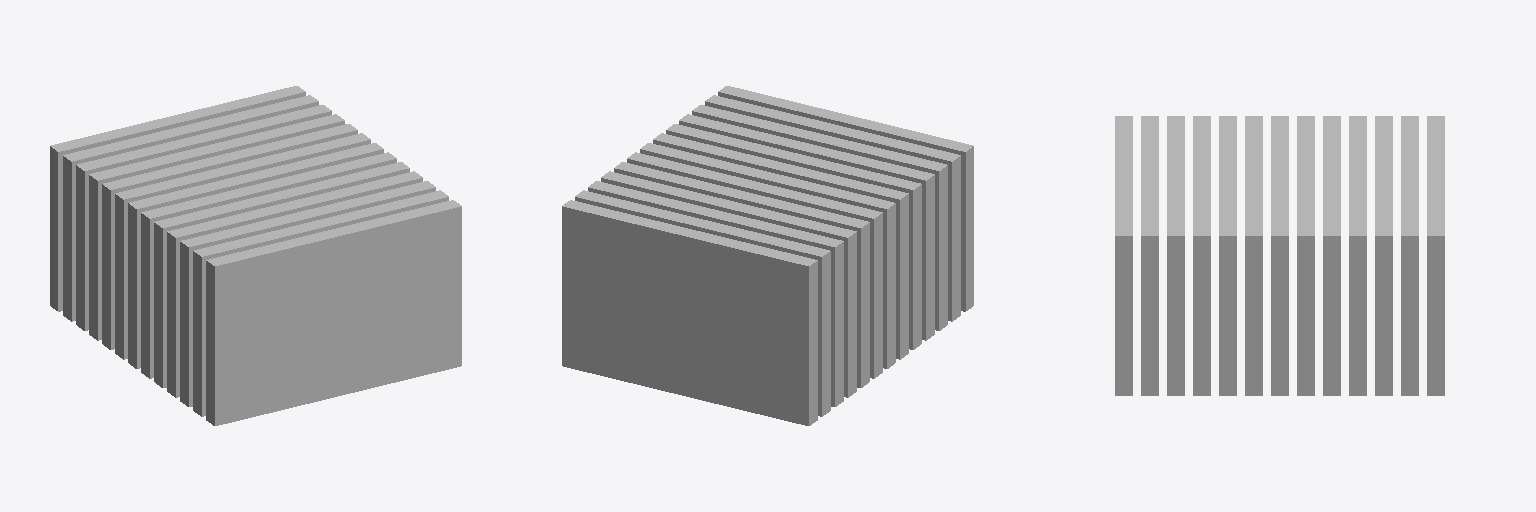
File: CCR_R.obj
The picture shows the model from 3 angles: view 1: azimuth 30°, elevation 25°; view 2: azimuth 150°, elevation 25°; view 3: azimuth 270°, elevation 25°; orthographic projection.
Parts seen in each view (by area): view 1: Box084, Box073, Box079, Box074, Box075, Box077, Box081, Box082, Box080, Box083, Box076, Box072 (+1 smaller); view 2: Box072, Box083, Box075, Box077, Box074, Box079, Box081, Box082, Box073, Box076, Box080, Box078 (+1 smaller); view 3: Box072, Box073, Box074, Box075, Box076, Box077, Box078, Box079, Box080, Box081, Box082, Box083 (+1 smaller).
Boxes of the visible parts, box(x1,y1,x2,y2) form: Box084: box(206, 200, 461, 425); Box073: box(63, 95, 318, 321); Box079: box(141, 152, 396, 378); Box074: box(76, 105, 331, 330); Box075: box(89, 114, 344, 340); Box077: box(115, 133, 370, 359); Box081: box(167, 171, 422, 397); Box082: box(180, 181, 435, 406); Box080: box(154, 162, 409, 387); Box083: box(193, 190, 448, 416); Box076: box(102, 124, 357, 349); Box072: box(50, 86, 305, 311); Box072: box(562, 200, 817, 425); Box083: box(705, 95, 960, 321); Box075: box(601, 171, 856, 397); Box077: box(627, 152, 882, 378); Box074: box(588, 181, 843, 406); Box079: box(653, 133, 908, 359); Box081: box(679, 114, 934, 340); Box082: box(692, 105, 947, 330); Box073: box(575, 190, 830, 416); Box076: box(614, 162, 869, 387); Box080: box(666, 124, 921, 349); Box078: box(640, 143, 895, 368); Box072: box(1427, 116, 1444, 395); Box073: box(1401, 116, 1418, 395); Box074: box(1375, 116, 1392, 395); Box075: box(1349, 116, 1366, 395); Box076: box(1323, 116, 1340, 395); Box077: box(1297, 116, 1314, 395); Box078: box(1271, 116, 1288, 395); Box079: box(1245, 116, 1262, 395); Box080: box(1219, 116, 1236, 395); Box081: box(1193, 116, 1210, 395); Box082: box(1167, 116, 1184, 395); Box083: box(1141, 116, 1158, 395).
Bounding box in the file's own units: 7.19 × 4.44 × 8.31.